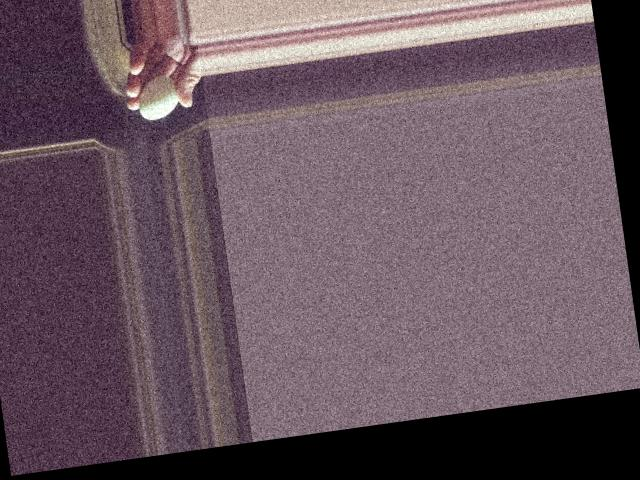egg: (136, 74, 182, 121)
